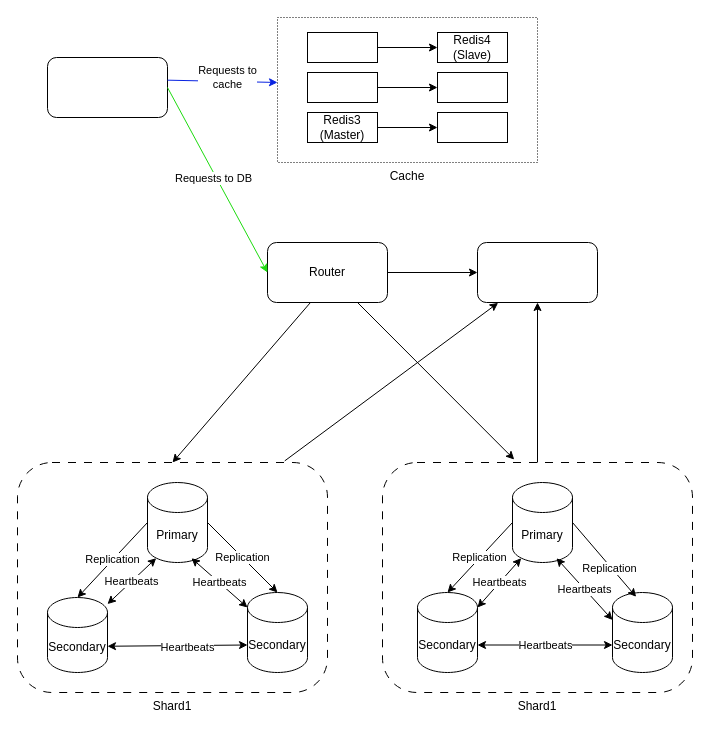
Some shapes in this 710 by 731 pixel diagram are drawn without their labels. The shapes that lost their labels are listed below. From the top down, each one's centre as x and y in pixels, then its label:
At [342,47]: "Redis1 (Master)".
At [107,87]: "pymongo-api".
At [342,87]: "Redis2 (Master)".
At [472,87]: "Redis5 (Slave)".
At [472,127]: "Redis6 (Slave)".
At [537,272]: "Configutation Server".
